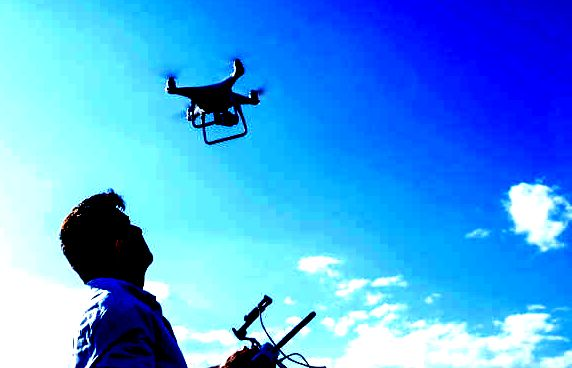Drone: (152, 51, 270, 147)
